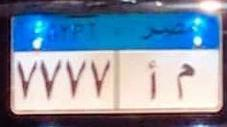7: (89, 58, 113, 99), (64, 59, 88, 98), (39, 60, 62, 95), (17, 60, 37, 95)
alif: (144, 58, 162, 98)
meem: (171, 60, 198, 102)
